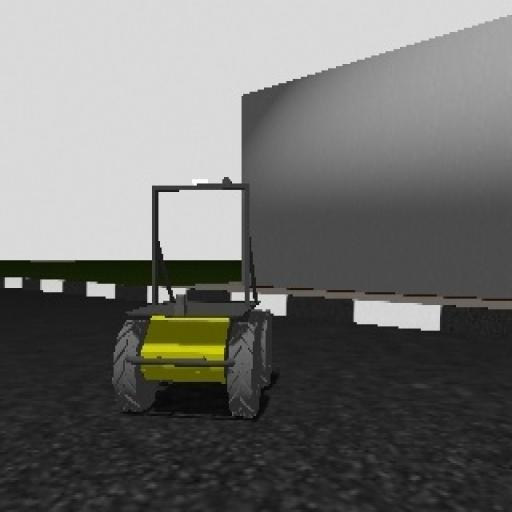huskya200: (93, 171, 287, 441)
